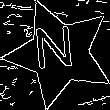N_S: (36, 27, 82, 80)
